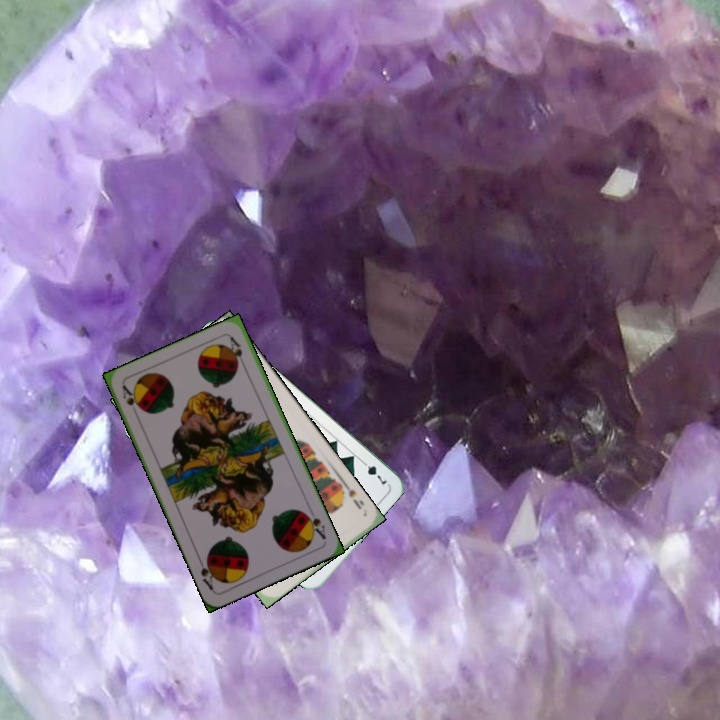G7: (357, 456, 390, 490)
S9: (335, 479, 367, 512)
SA: (300, 508, 329, 542), (118, 381, 144, 413)
